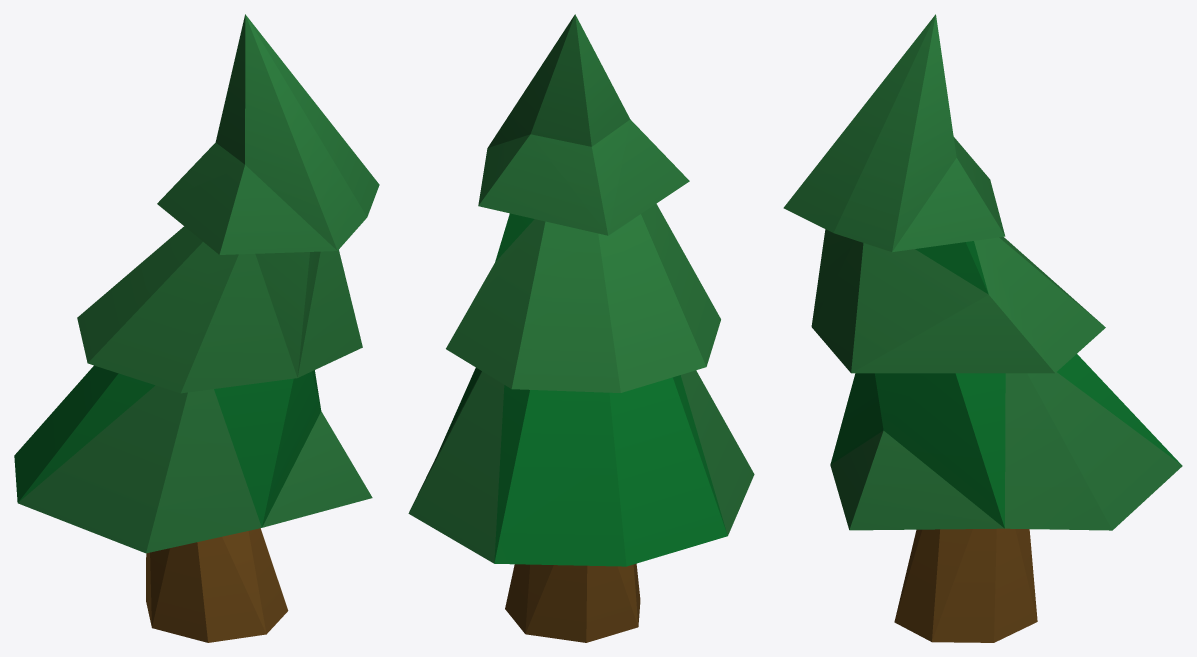
Rendered from sm_Tree_2.fbx.
The picture shows the model from 3 angles, left to right: view 1: azimuth 30°, elevation 25°; view 2: azimuth 150°, elevation 25°; view 3: azimuth 270°, elevation 25°; orthographic projection. The views are drawn at different scales.
Parts seen in each view (by area): view 1: sm_Tree_2; view 2: sm_Tree_2; view 3: sm_Tree_2.
Boxes of the visible parts, box(x1,y1,x2,y2) form: sm_Tree_2: box(14, 14, 379, 642); sm_Tree_2: box(408, 14, 754, 642); sm_Tree_2: box(783, 14, 1182, 642).
Size of the model in its own units: 491 by 259 by 292.
